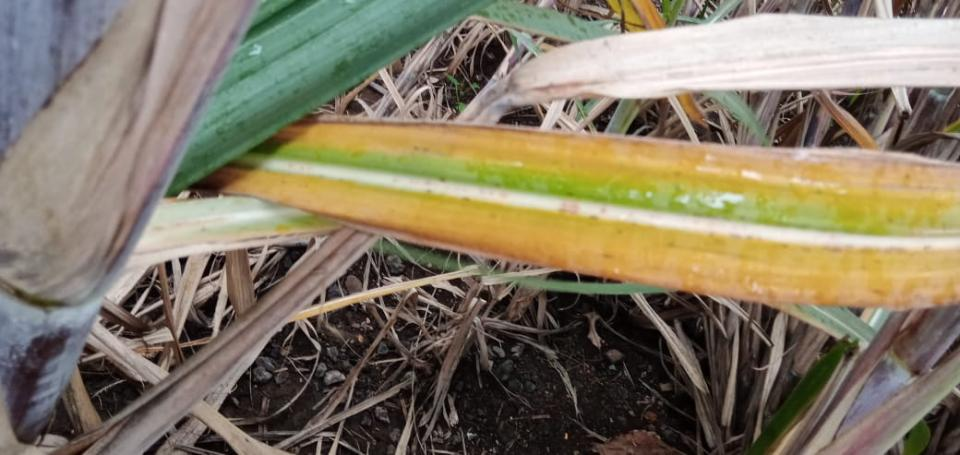Yellow: (193, 166, 959, 306), (260, 121, 959, 218)
